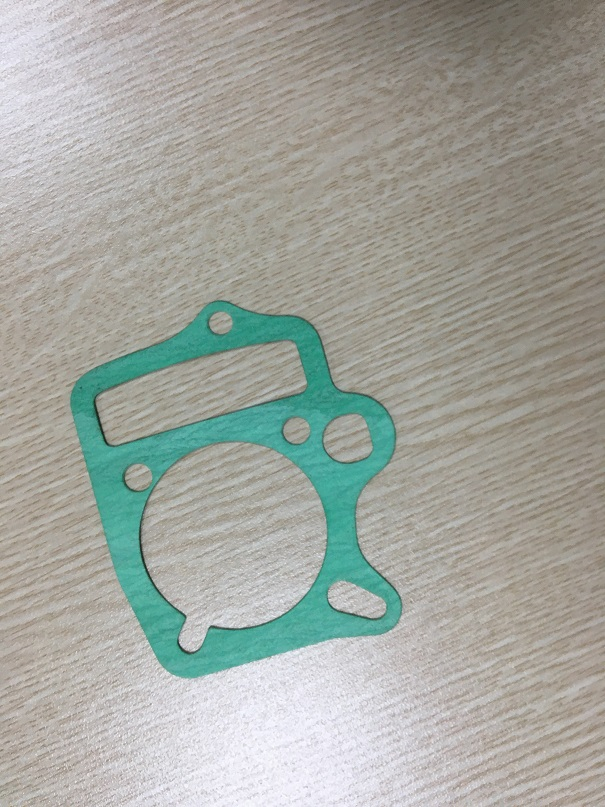type4: (59, 295, 418, 684)
